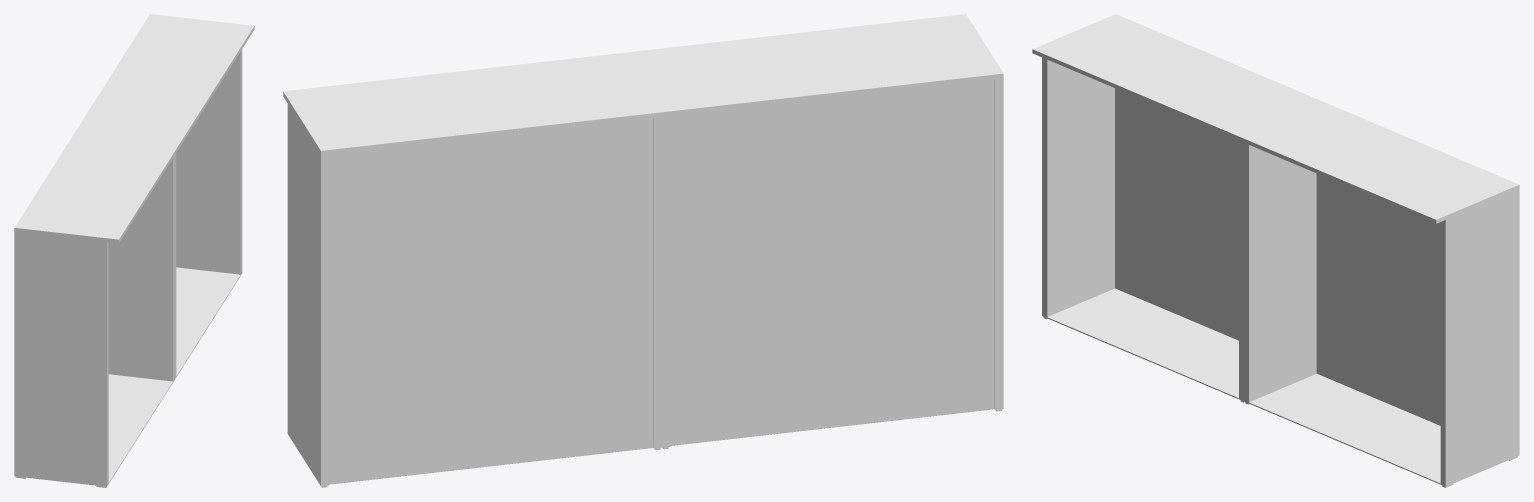
The model's file is tvtable_0201_body.glb.
The picture shows the model from 3 angles, left to right: view 1: azimuth 30°, elevation 25°; view 2: azimuth 150°, elevation 25°; view 3: azimuth 270°, elevation 25°; orthographic projection. The views are drawn at different scales.
Visible parts, largest first — view 1: tvtable_0201_body; view 2: tvtable_0201_body; view 3: tvtable_0201_body.
Part boxes in pixels (left/top/right/bottom): tvtable_0201_body: left=14, top=14, right=254, bottom=487; tvtable_0201_body: left=283, top=14, right=1003, bottom=487; tvtable_0201_body: left=1032, top=14, right=1519, bottom=487.
Size of the model in its own units: 1.36 by 0.8424 by 1.36.
Materials: 1 (1 with a texture image).
